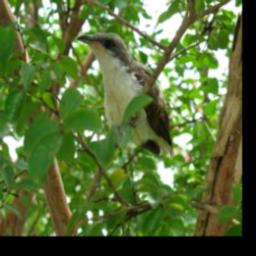Cuckoo: (79, 30, 175, 161)
